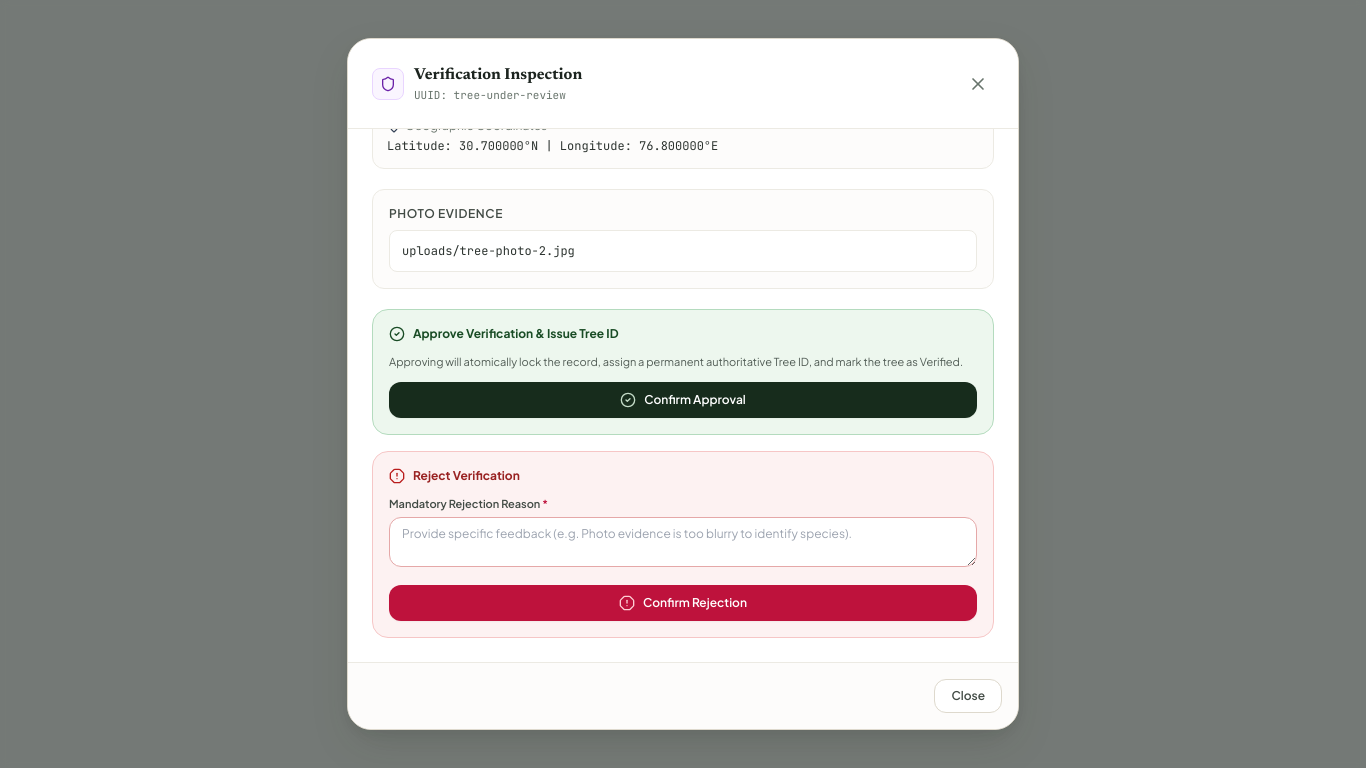
Test case: Milestone 15 — Admin Verification Workflow Tests › VerificationModal › Transition 3: Rejection requires mandatory non-blank reason
(page scrolled)
Note: Attempt to reject with empty reason
Click the button with test id "reject-verification-button".
click(683, 603)  # box [389,585,977,621]
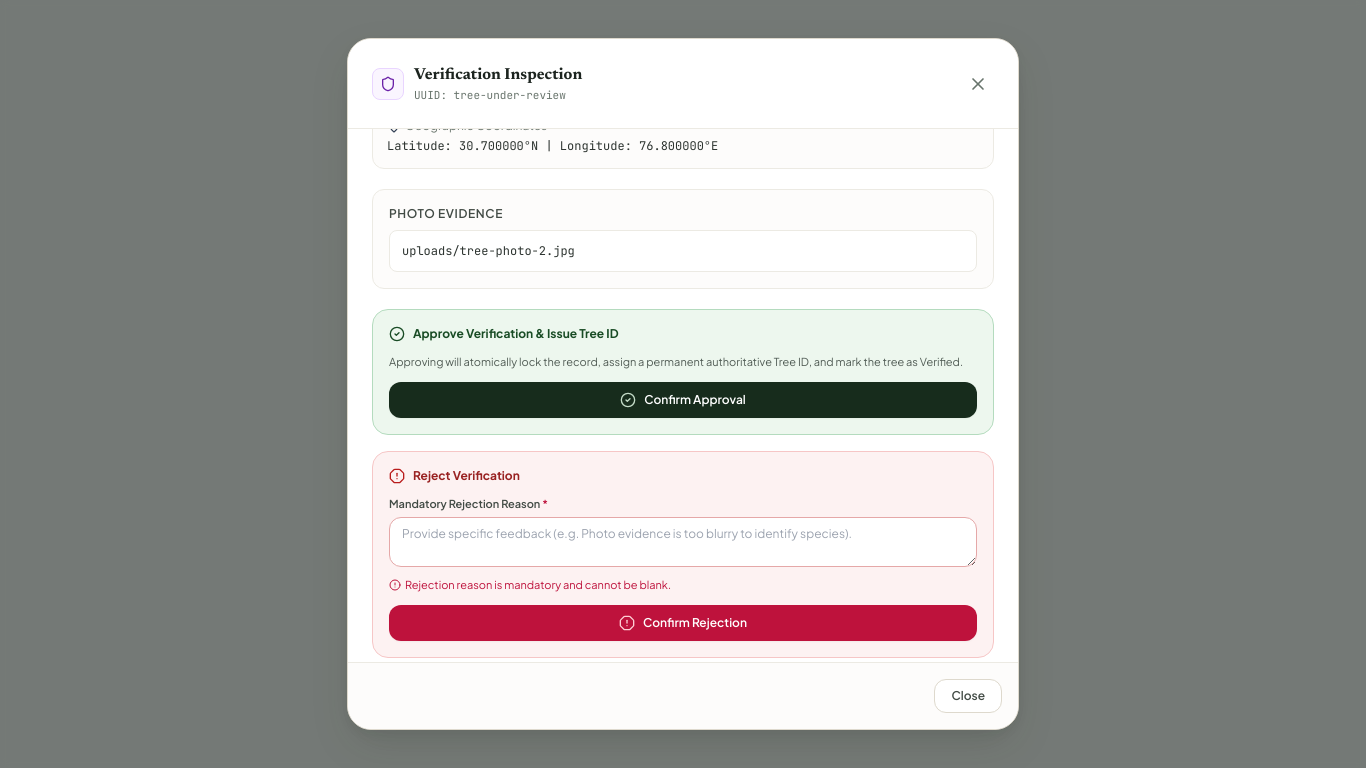
Expected: the text "Rejection reason is mandatory and cannot be blank." is shown, [389,578,671,591]
Replace the text in the text box with test id "rejection-reason-textarea" with "Photo evidence is insufficient to verify species." at (683, 542), box [389,517,977,567]
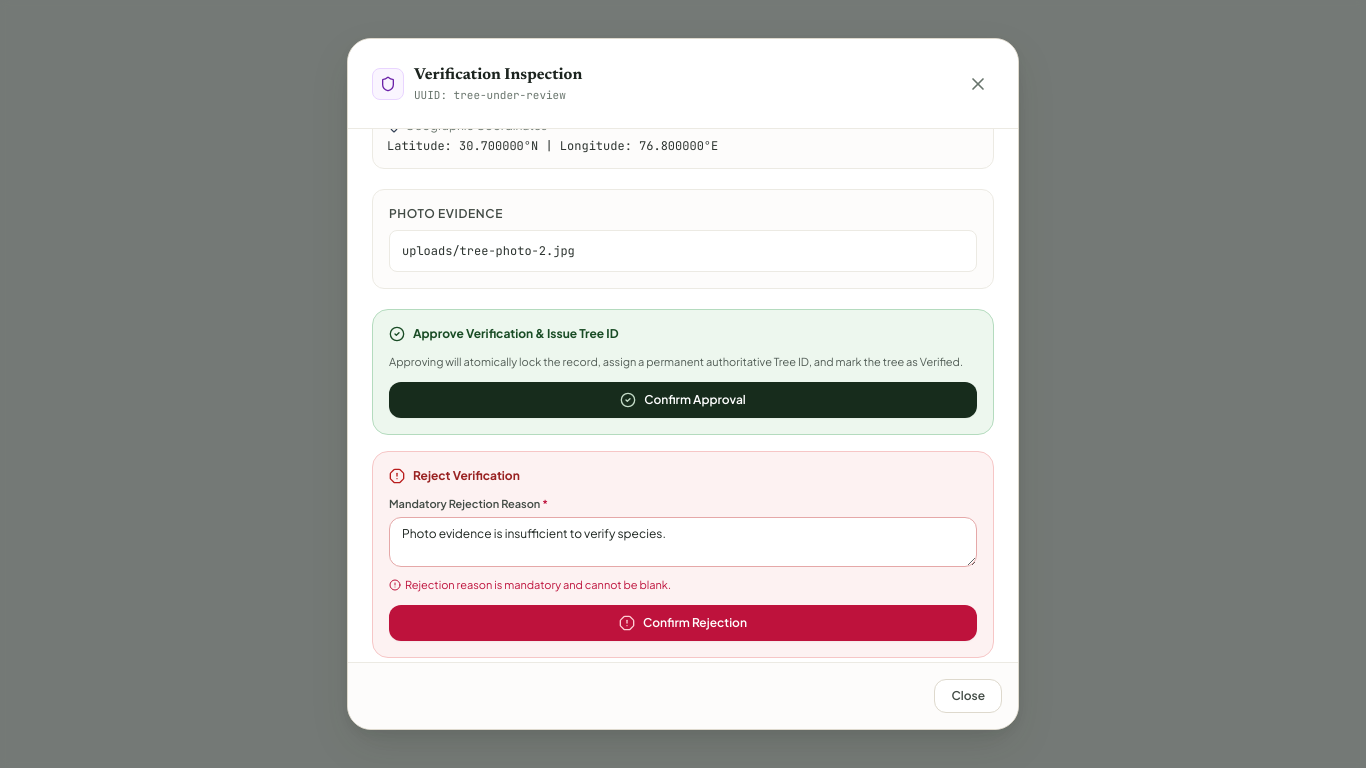
Click the button with test id "reject-verification-button".
click(683, 623)  # box [389,605,977,641]
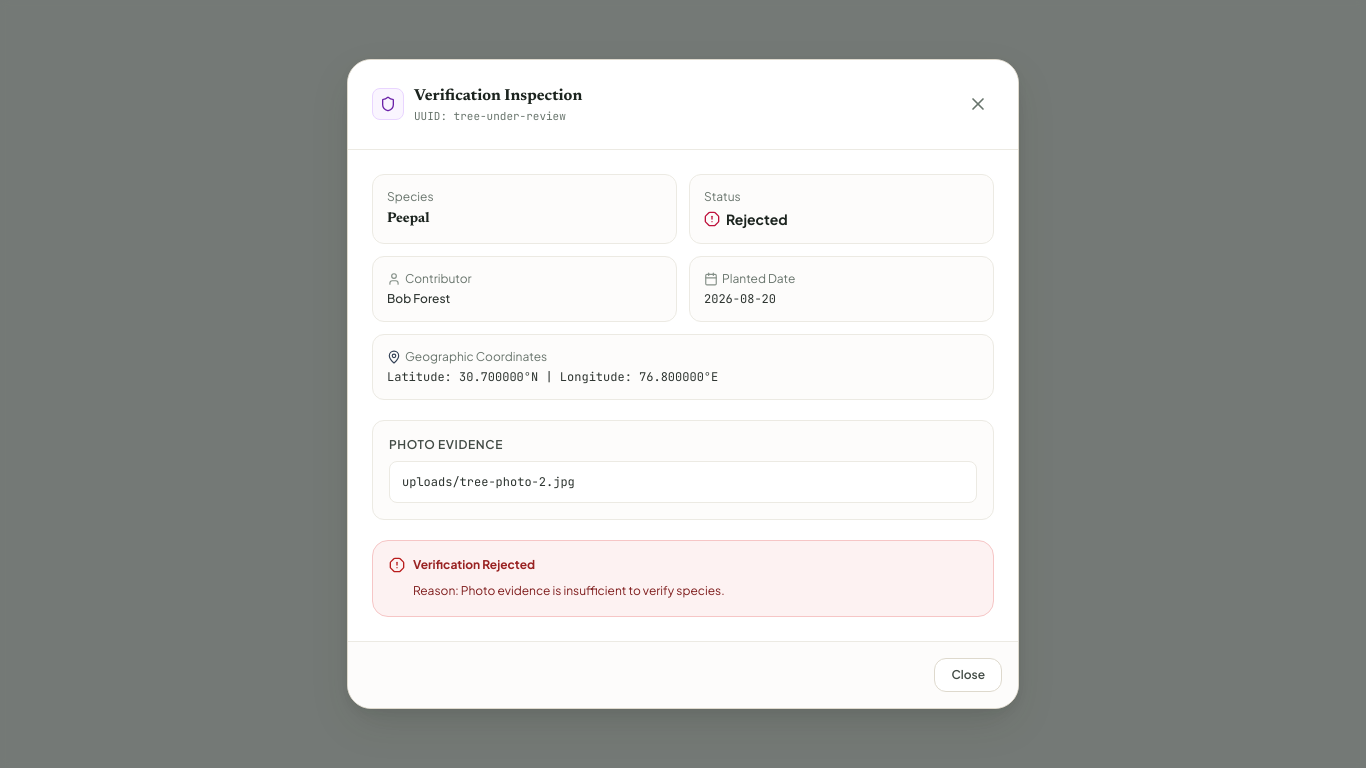
Expected: the text "Verification Rejected" is shown, [413,556,535,572]
